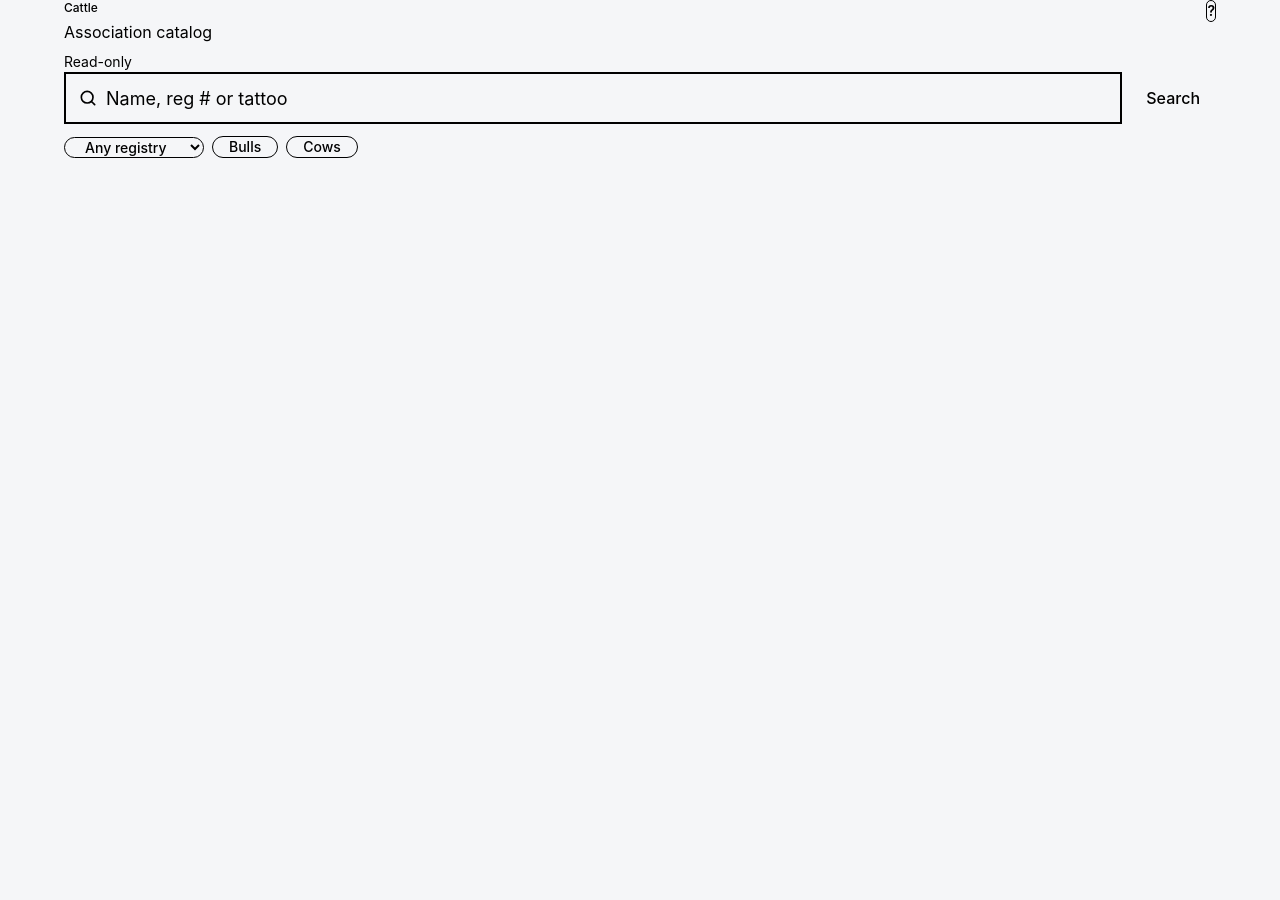
Bringing a bull across › takes no for an answer
The width and height of the screenshot is (1280, 900).
Type "Montego" into the search field named "Name, number or tattoo" at (607, 98), box top-left (106, 74), bottom-right (1108, 122)
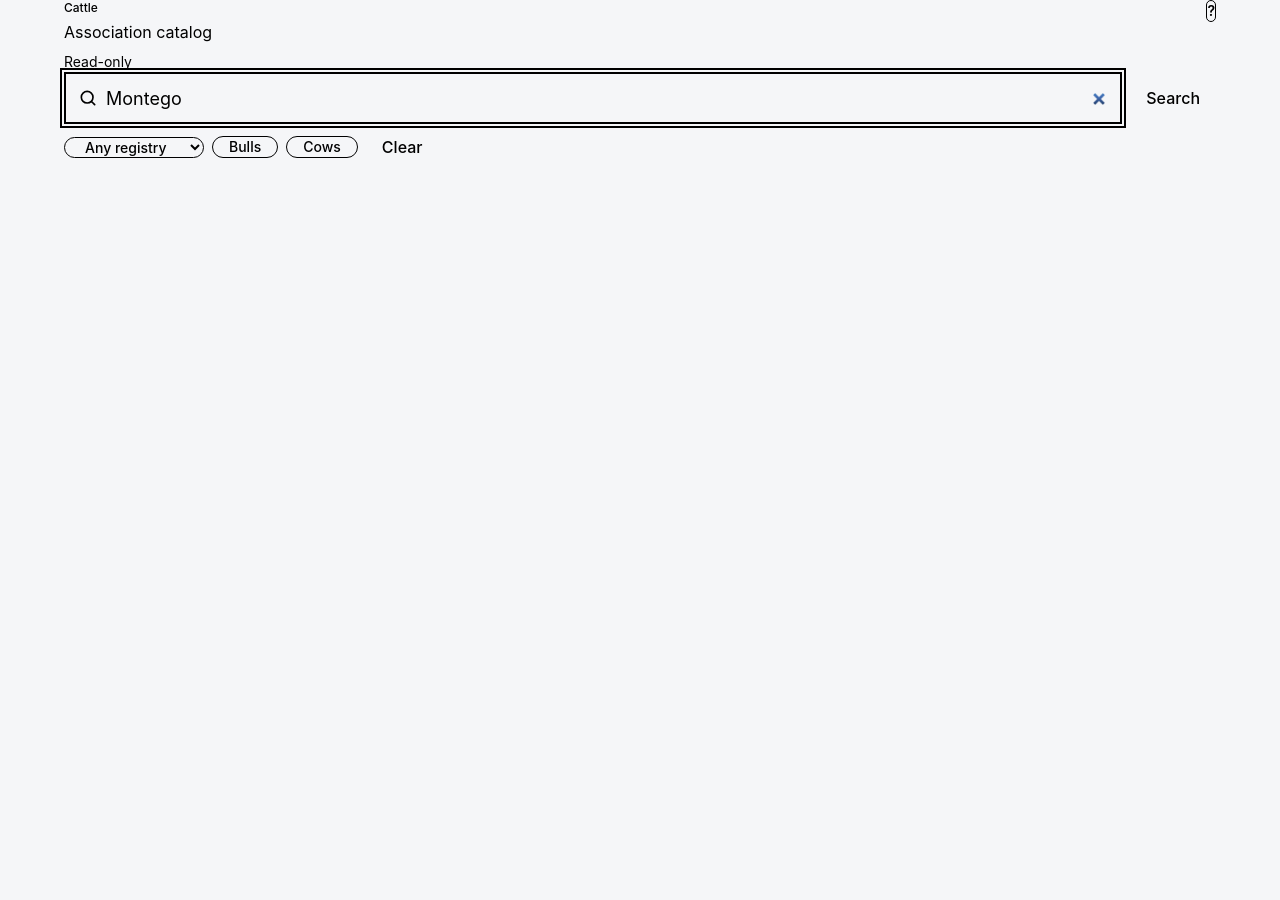
Click the button "Search" at (1173, 98), box top-left (1130, 72), bottom-right (1216, 124)
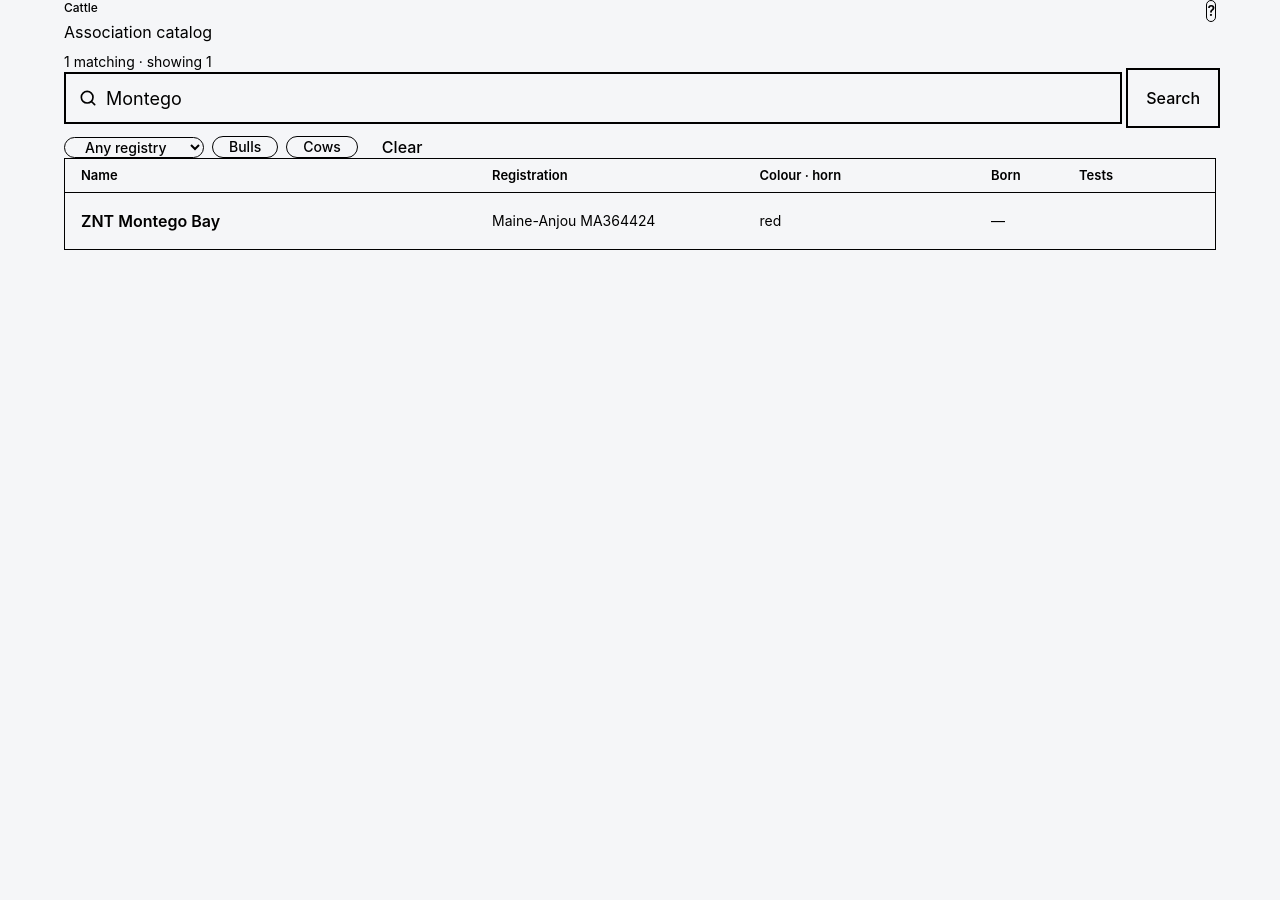
Click the button "ZNT Montego Bay" at (640, 221), box top-left (65, 193), bottom-right (1215, 249)
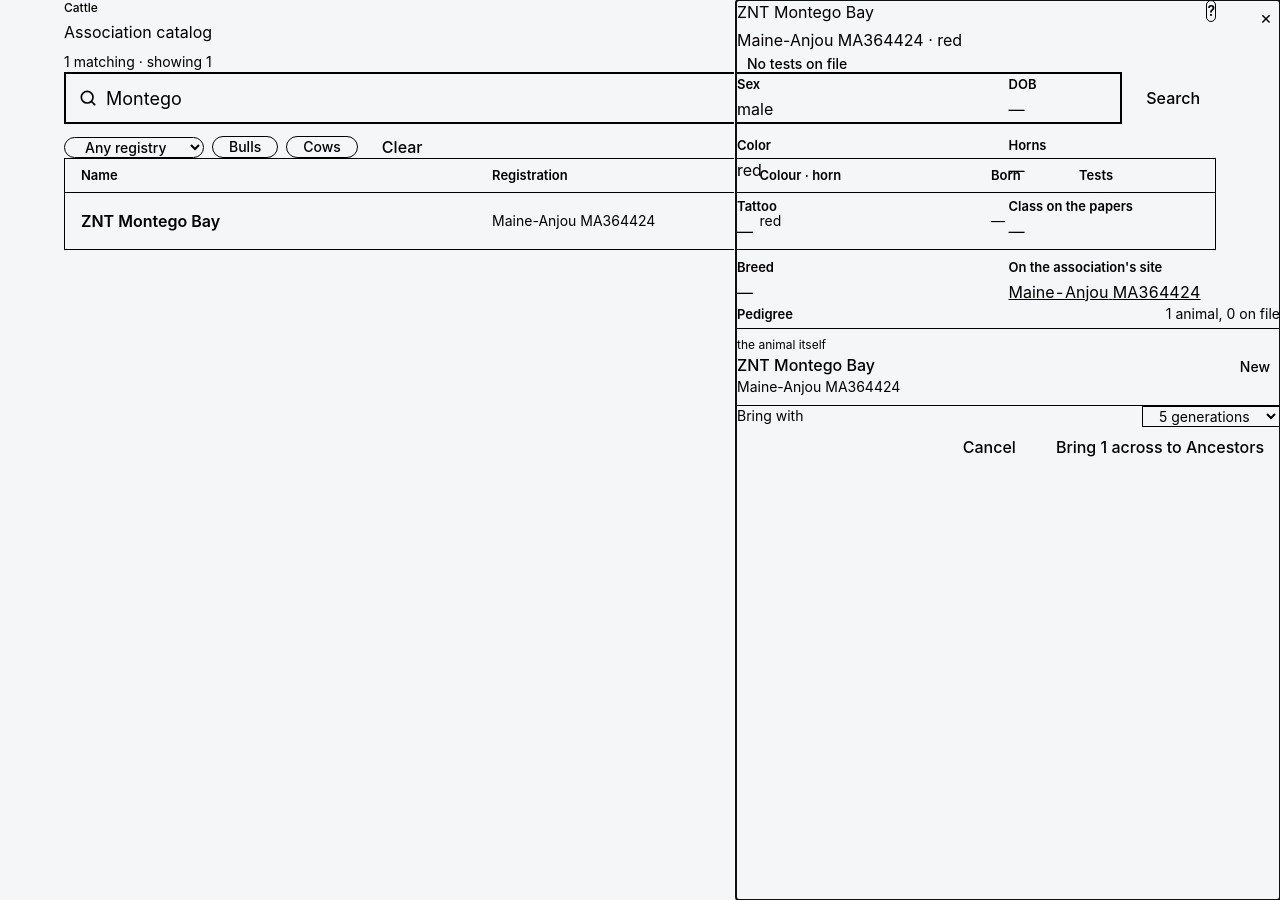
Click the button "Bring 1 across to Ancestors" at (1160, 447), box top-left (1040, 439), bottom-right (1279, 455)
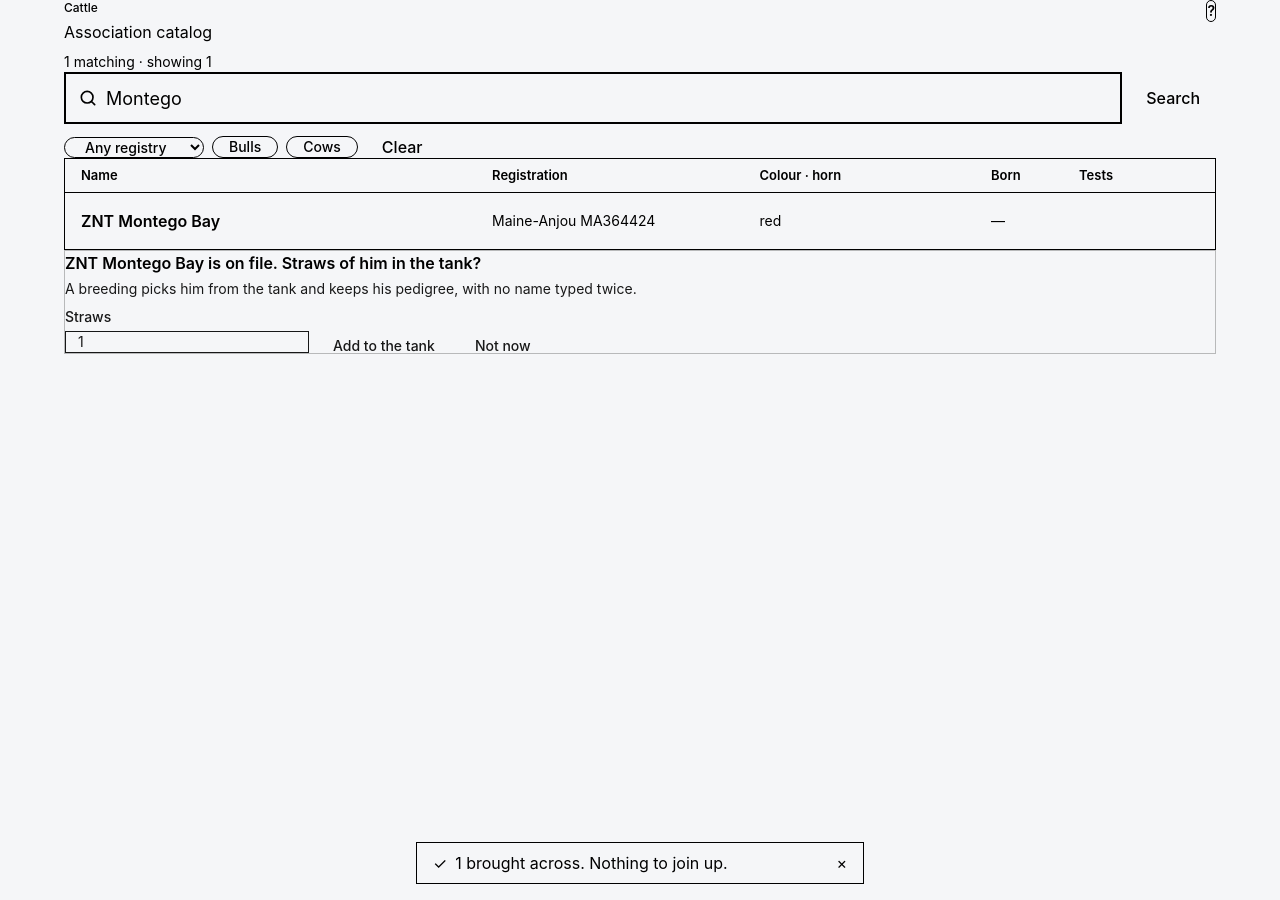
Click the button "Not now" at (503, 346), box top-left (459, 339), bottom-right (547, 353)
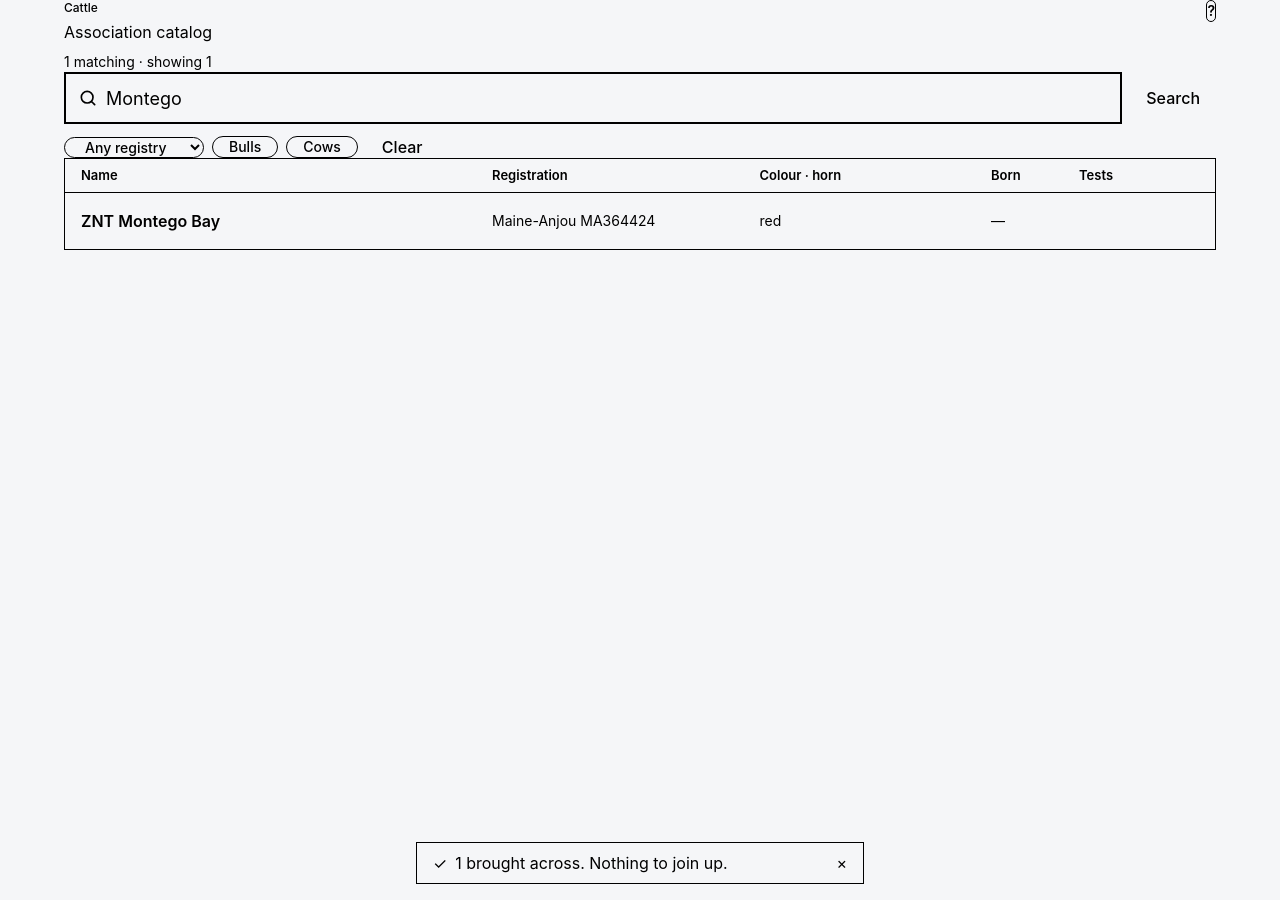
Expected: the text "in the tank?" is gone
